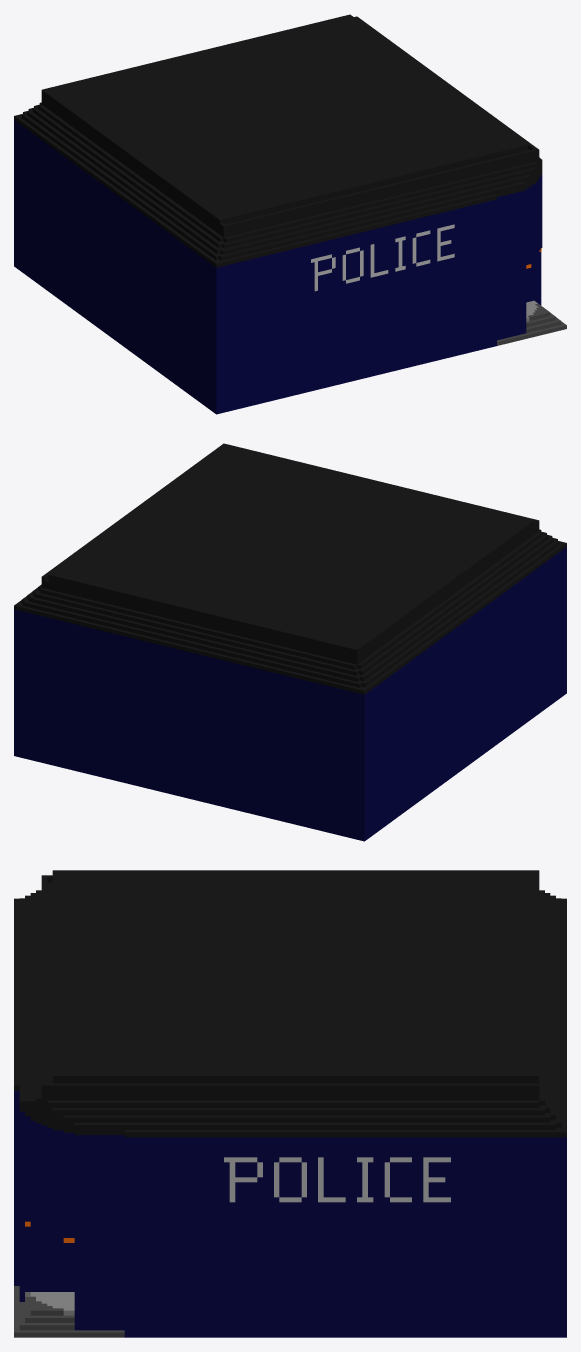
Rendered from police filled Good final.obj.
3 views of the same model, one above another, from view 1: azimuth 30°, elevation 25°; view 2: azimuth 150°, elevation 25°; view 3: azimuth 270°, elevation 25° (orthographic). The views are drawn at different scales.
Parts seen in each view (by area): view 1: Police Station; view 2: Police Station; view 3: Police Station.
Boxes of the visible parts, x1,y1,x2,y2 form: Police Station: [14, 14, 566, 414]; Police Station: [14, 443, 566, 841]; Police Station: [14, 870, 566, 1337].
Bounding box in the file's own units: 10 × 4.9 × 10.
